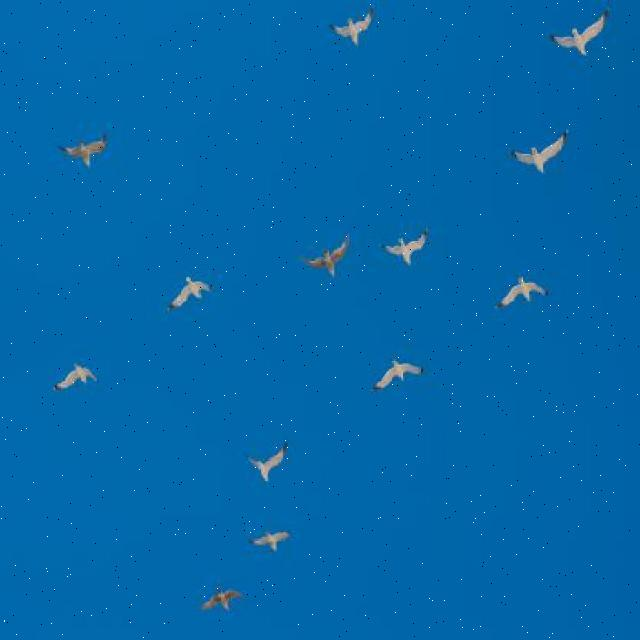bird: (549, 7, 609, 58), (510, 130, 570, 176), (300, 236, 349, 282), (329, 5, 374, 50), (495, 275, 551, 311), (243, 440, 288, 483), (379, 228, 427, 268), (168, 276, 214, 316), (372, 358, 426, 392), (58, 134, 107, 168), (53, 362, 99, 392), (198, 587, 242, 613), (248, 528, 289, 554)
